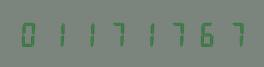one: (46, 20, 74, 47), (75, 20, 103, 47), (133, 20, 161, 47)
seven: (104, 20, 132, 47), (162, 20, 190, 47), (220, 20, 248, 47)
six: (191, 20, 219, 47)
zero: (17, 20, 45, 47)
